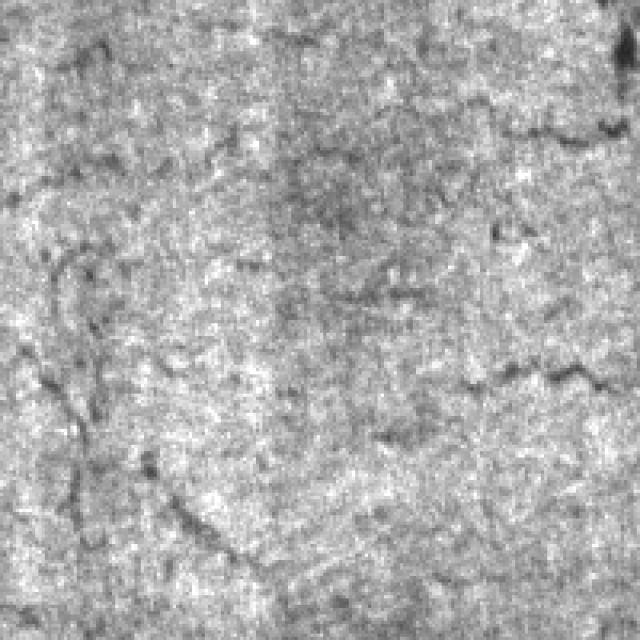crazing: (29, 0, 340, 630), (13, 0, 637, 205), (365, 90, 640, 403)
